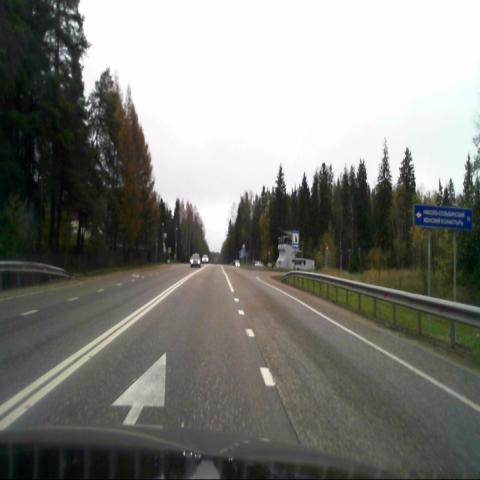7_11: (292, 230, 299, 248)
